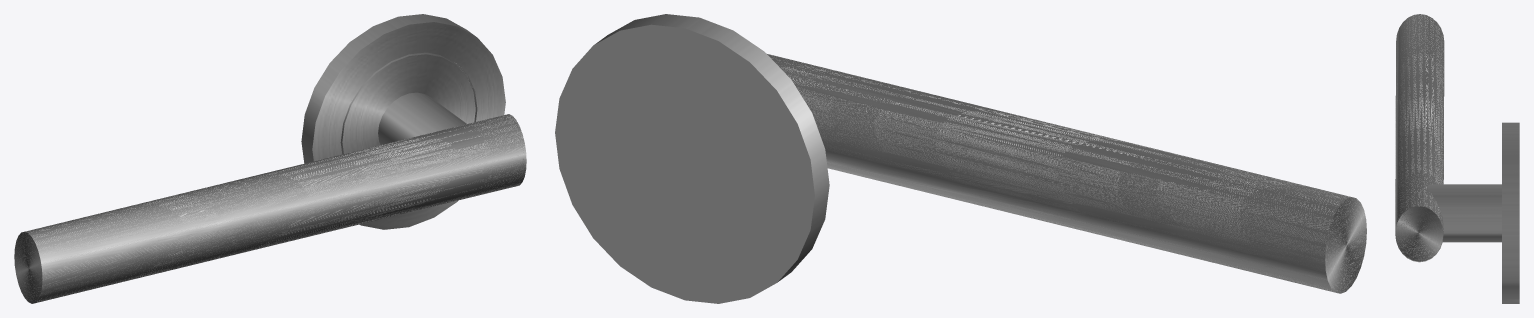
3 renders of one model, left to right at view 1: azimuth 30°, elevation 25°; view 2: azimuth 150°, elevation 25°; view 3: azimuth 270°, elevation 25°, orthographic. The views are drawn at different scales.
Visible parts, largest first — view 1: SketchUp.140, SketchUp.137, SketchUp.139, SketchUp.136; view 2: SketchUp.140, SketchUp.141, SketchUp.137; view 3: SketchUp.140, SketchUp.136, SketchUp.137, SketchUp.144.
Part boxes in pixels (left/top/right/bottom): SketchUp.140: left=14, top=114, right=526, bottom=303; SketchUp.137: left=301, top=14, right=505, bottom=229; SketchUp.139: left=340, top=52, right=475, bottom=154; SketchUp.136: left=378, top=92, right=466, bottom=144; SketchUp.140: left=767, top=54, right=1366, bottom=293; SketchUp.141: left=555, top=24, right=814, bottom=303; SketchUp.137: left=594, top=14, right=829, bottom=282; SketchUp.140: left=1395, top=14, right=1444, bottom=262; SketchUp.136: left=1427, top=184, right=1501, bottom=242; SketchUp.137: left=1502, top=122, right=1519, bottom=303; SketchUp.144: left=1395, top=206, right=1443, bottom=261.
Bounding box in the file's own units: 0.2055 × 0.0515 × 0.0753.
4 materials, 2 textured.
